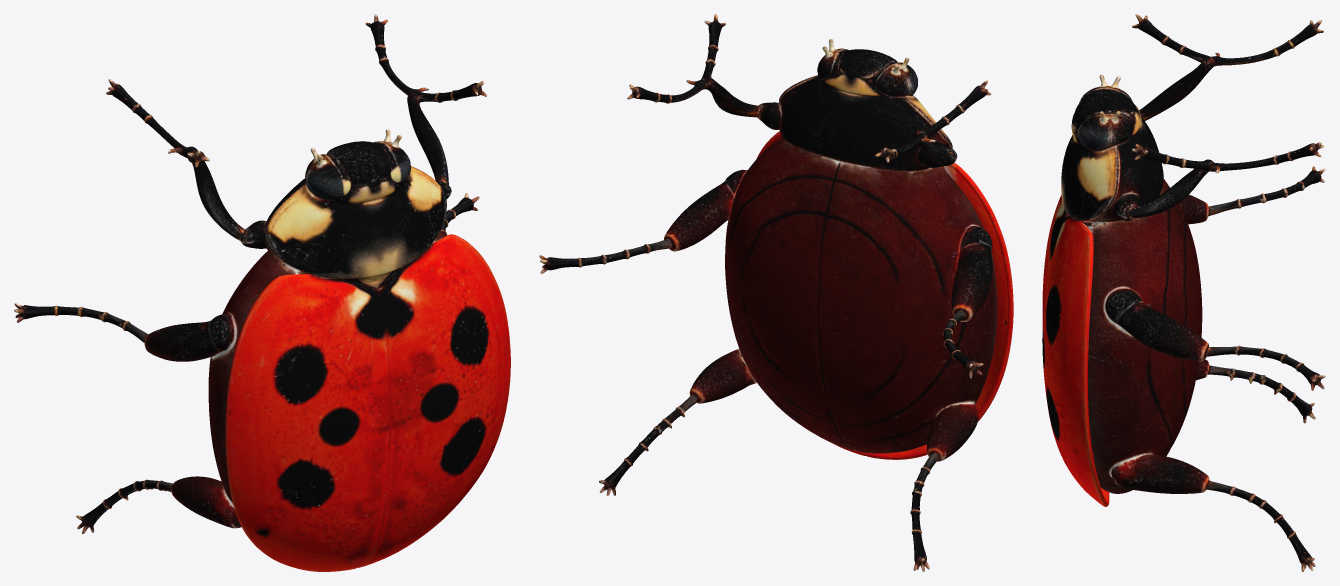
Rendered from ladybug.glb.
3 views of the same model, side by side, from view 1: azimuth 30°, elevation 25°; view 2: azimuth 150°, elevation 25°; view 3: azimuth 270°, elevation 25° (orthographic). The views are drawn at different scales.
Visible parts, largest first — view 1: ladybug; view 2: ladybug; view 3: ladybug.
Part boxes in pixels (x1=…): ladybug: x1=14, y1=14, x2=510, y2=571; ladybug: x1=539, y1=14, x2=1013, y2=571; ladybug: x1=1042, y1=14, x2=1325, y2=571.
Bounding box in the file's own units: 1 × 0.9107 × 0.5604.
1 material, 1 textured.
